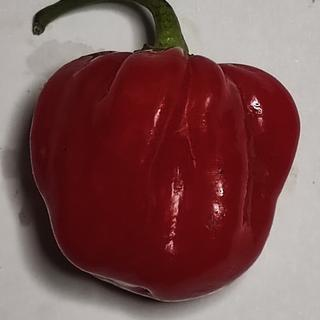Grade-B: (19, 45, 304, 305)
